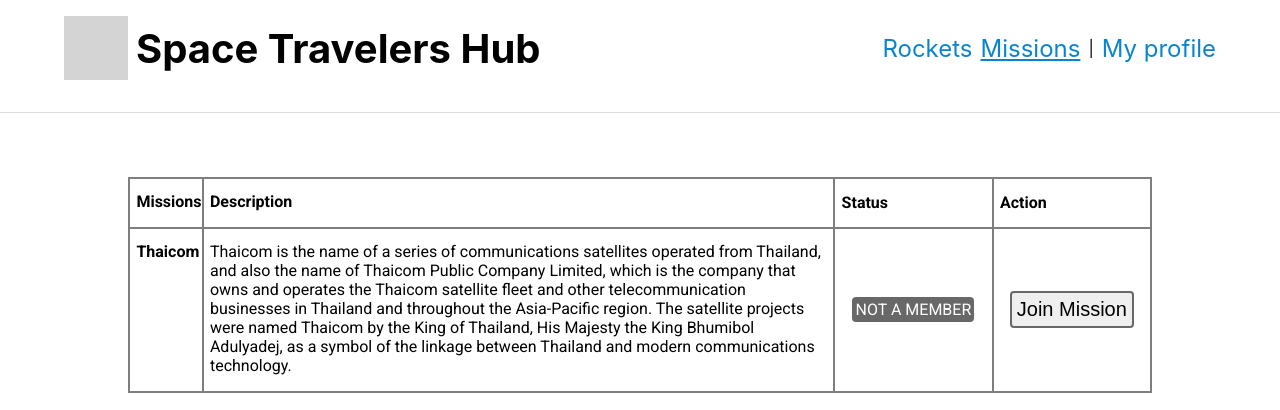
Test case: Test the App components › shows the MyProfile page when clicking the navbar link
The image size is (1280, 410).
Click the link "My profile". click: [1159, 48]
box: [1102,34,1216,62]
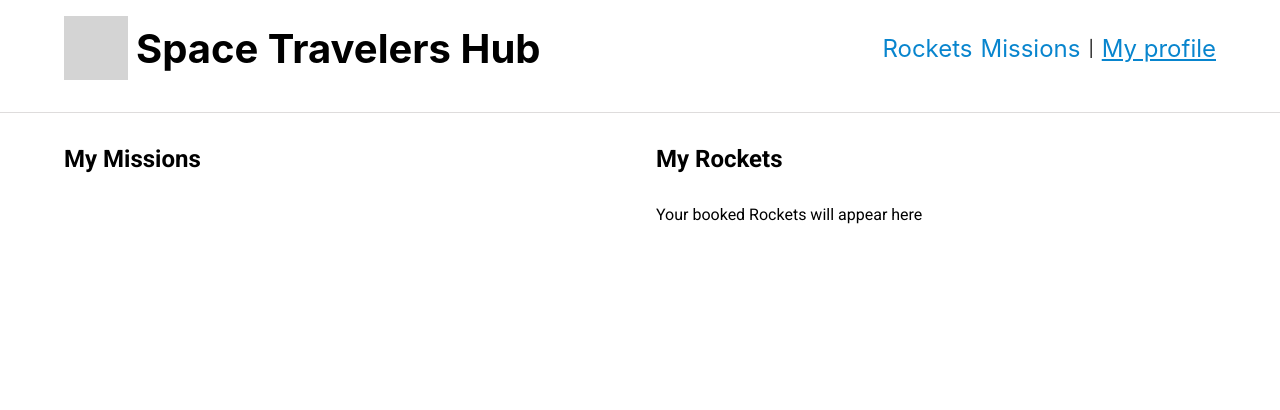
Expected: the number of elements with class "missions" is 1, [64,145,201,173]
